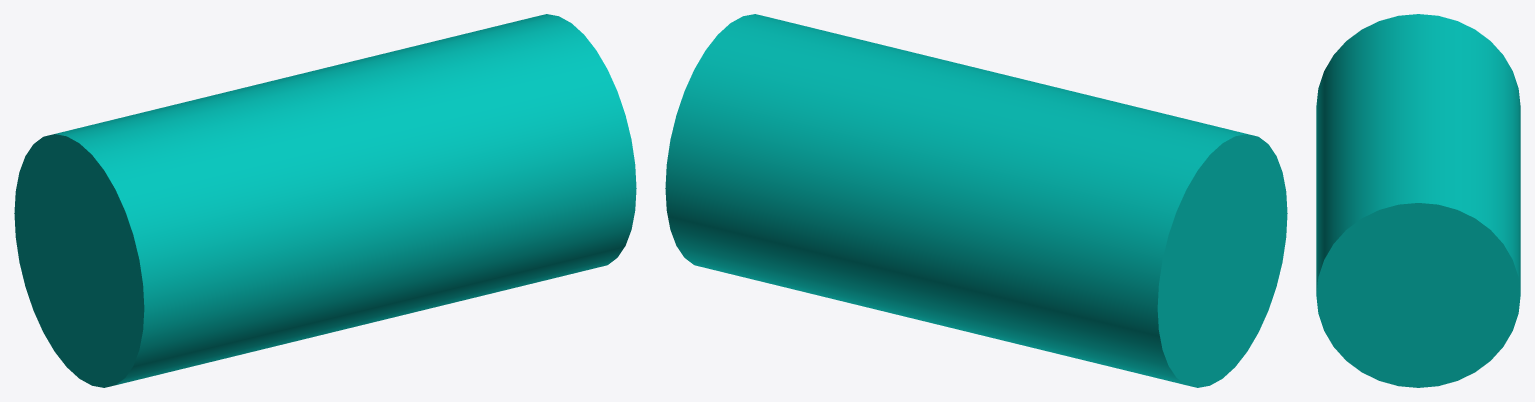
File: h2buffer.glb
The picture shows the model from 3 angles, left to right: view 1: azimuth 30°, elevation 25°; view 2: azimuth 150°, elevation 25°; view 3: azimuth 270°, elevation 25°; orthographic projection. The views are drawn at different scales.
Size of the model in its own units: 3.5 by 1.6 by 1.6.
